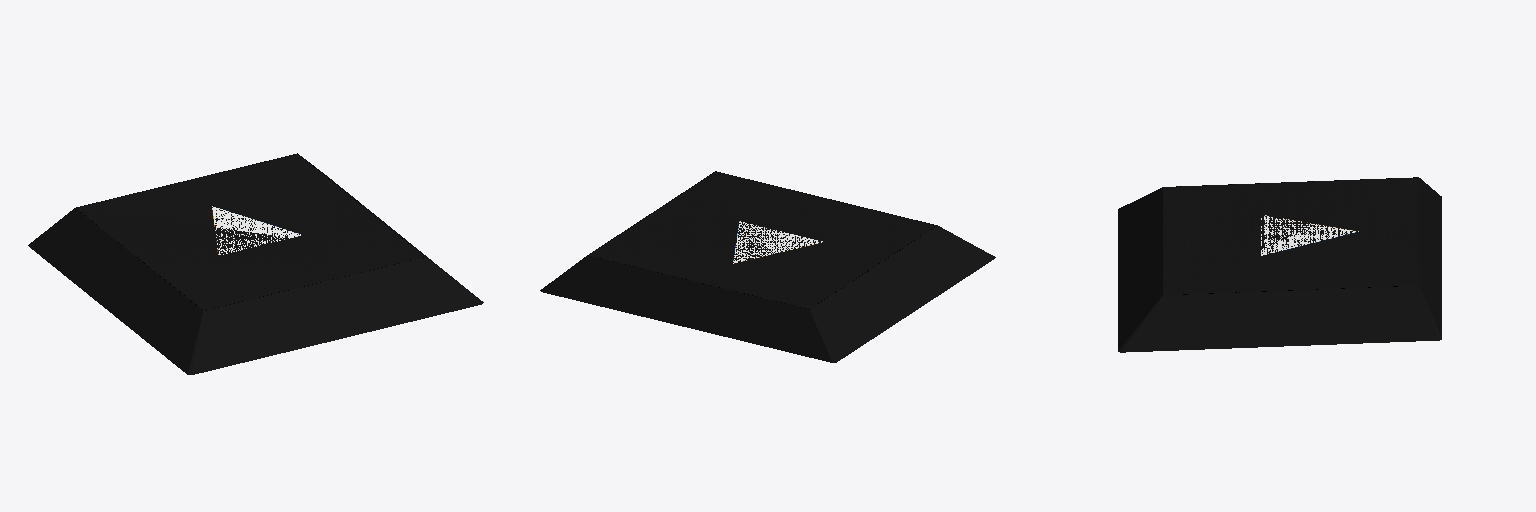
3 views of the same model, side by side, from view 1: azimuth 30°, elevation 25°; view 2: azimuth 150°, elevation 25°; view 3: azimuth 270°, elevation 25° (orthographic).
Visible parts, largest first — view 1: Group90/mesh83/mesh83-geometry#mesh83-geometry; view 2: Group90/mesh83/mesh83-geometry#mesh83-geometry; view 3: Group90/mesh83/mesh83-geometry#mesh83-geometry.
Part boxes in pixels (x1,y1,x2,y2): Group90/mesh83/mesh83-geometry#mesh83-geometry: (28,153,483,374); Group90/mesh83/mesh83-geometry#mesh83-geometry: (540,171,995,362); Group90/mesh83/mesh83-geometry#mesh83-geometry: (1118,177,1441,352).
Size of the model in its own units: 0.0754 by 0.0119 by 0.0715.
Materials: 2 (1 with a texture image).